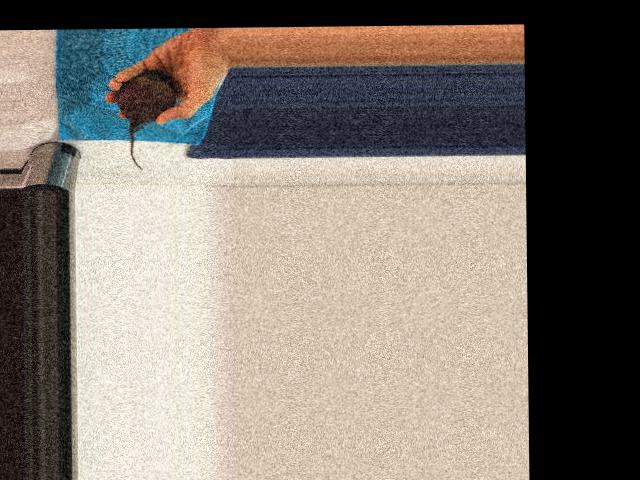beet: (115, 69, 176, 169)
